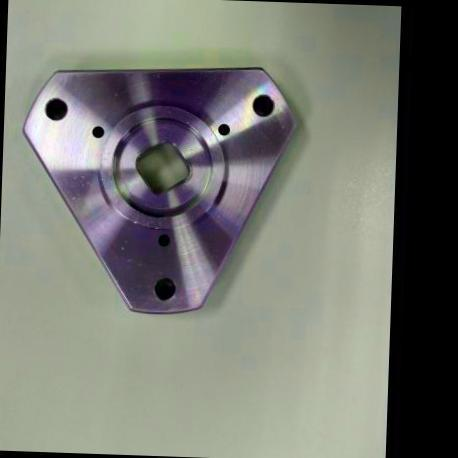hole: (151, 276, 180, 305), (42, 96, 70, 124), (250, 92, 277, 120), (90, 124, 107, 141), (156, 232, 172, 249), (215, 122, 232, 138)
